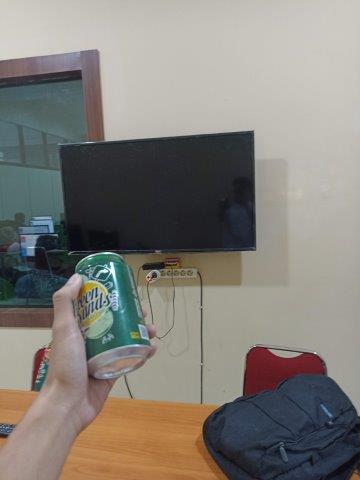kaleng: (74, 251, 152, 380)
